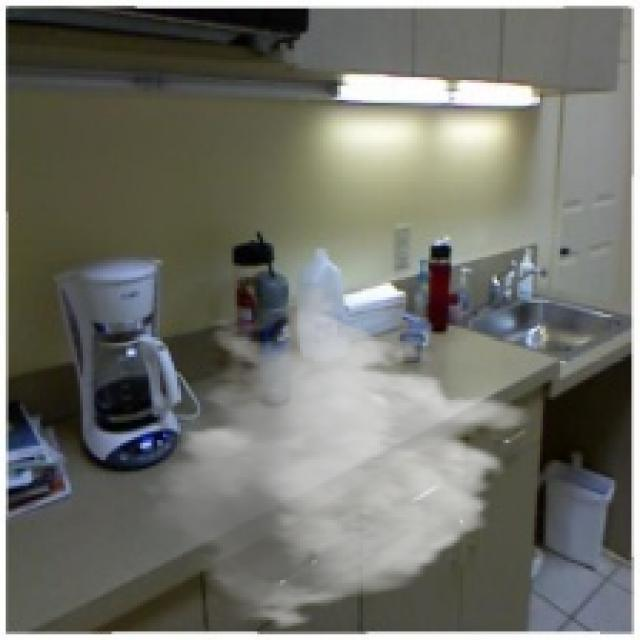Smoke: (137, 283, 534, 632)
